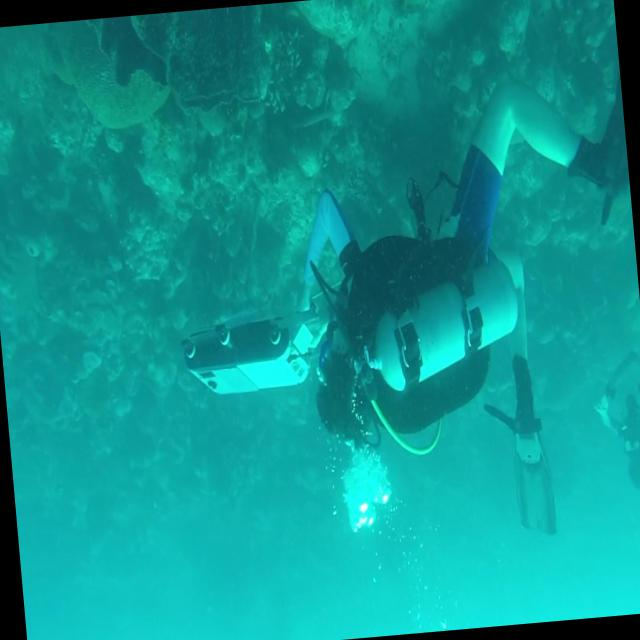human: (277, 0, 640, 465), (587, 322, 640, 503)
